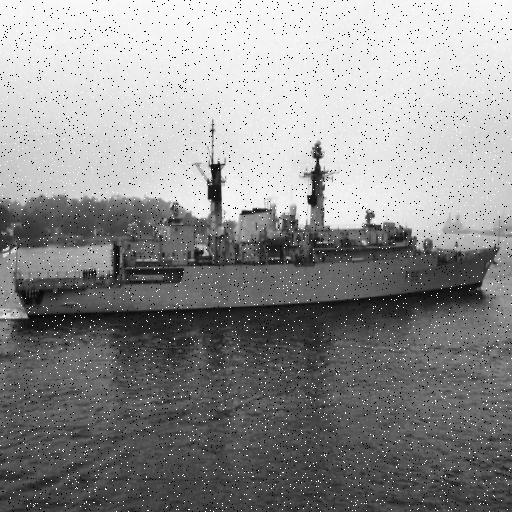Fragata: (13, 115, 503, 326)
